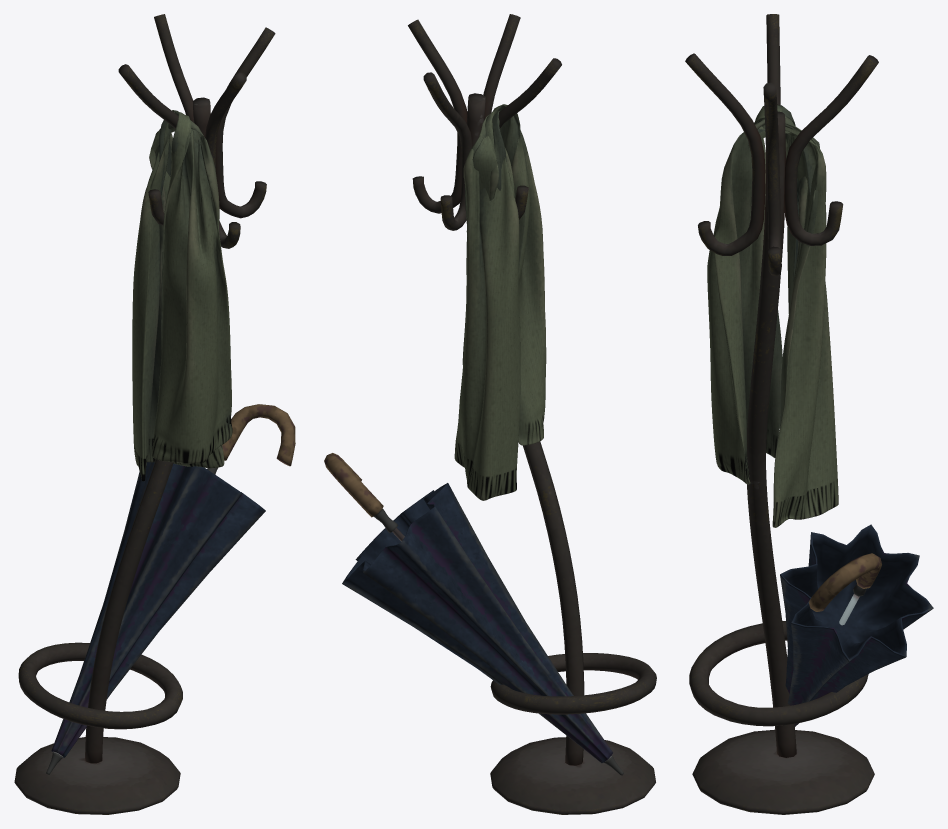
The model's file is f_CoatRack.fbx.
The picture shows the model from 3 angles, left to right: view 1: azimuth 30°, elevation 25°; view 2: azimuth 150°, elevation 25°; view 3: azimuth 270°, elevation 25°; orthographic projection. The views are drawn at different scales.
Visible parts, largest first — view 1: CoatTrack_LD; view 2: CoatTrack_LD; view 3: CoatTrack_LD.
Boxes of the visible parts, x1=… form: CoatTrack_LD: x1=14, y1=14, x2=295, y2=814; CoatTrack_LD: x1=324, y1=14, x2=656, y2=814; CoatTrack_LD: x1=685, y1=14, x2=933, y2=814.
Size of the model in its own units: 127 by 296 by 85.47.
